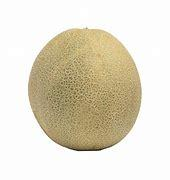Melon Ripe: (28, 28, 142, 152)
